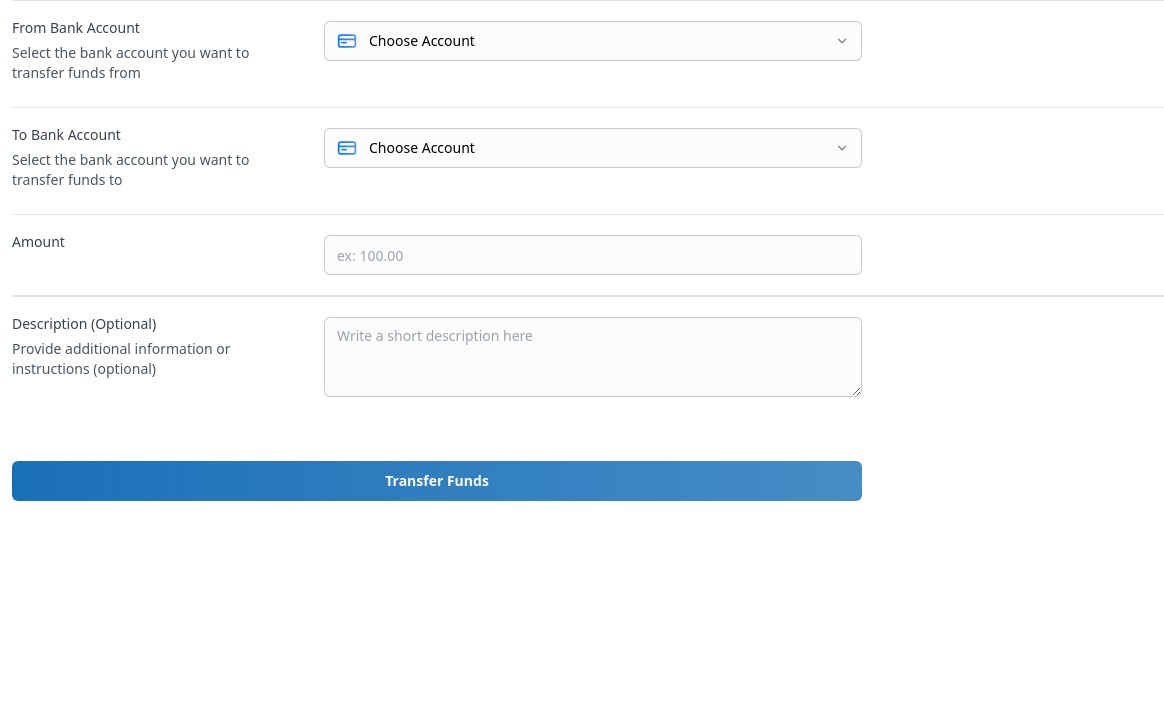
Test: TransferFundsForm Component › should display error when amount is invalid
# Fill in valid fromBank and toBank
Click the dropdown labelled "Choose Account" in the row of "From Bank Account" at x=422, y=40, box [324,21,862,61]
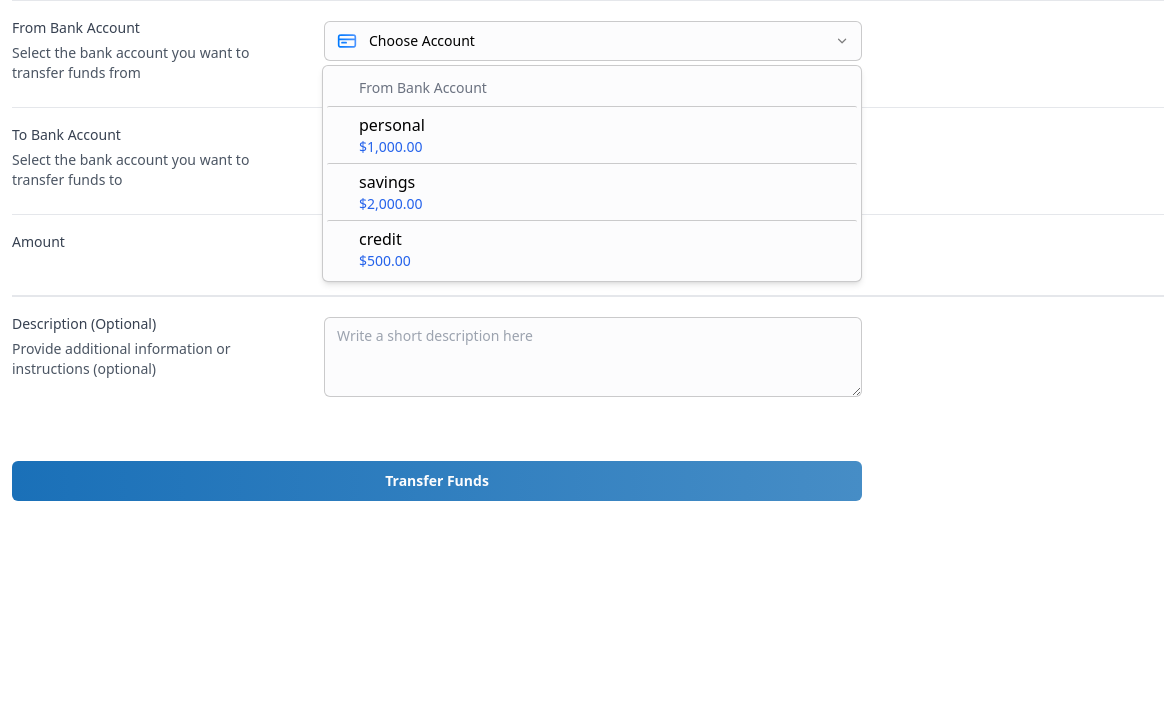
Click the text "personal" at x=392, y=125, box [359,113,425,137]
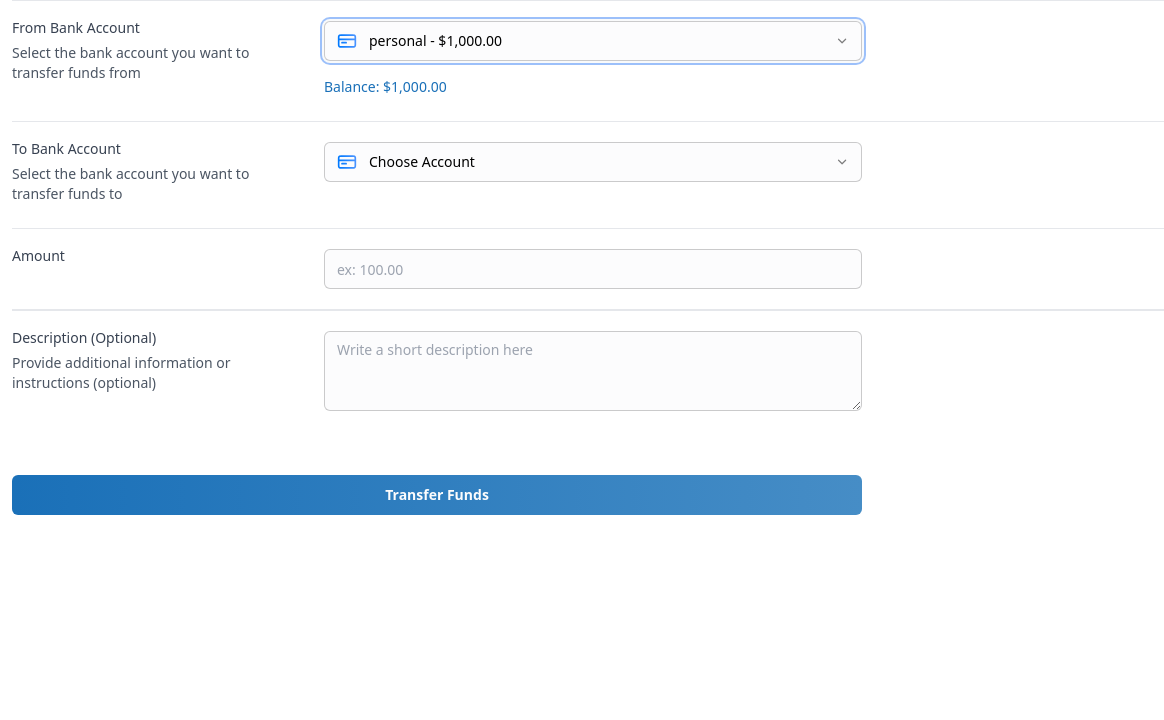
Click the dropdown labelled "Choose Account" at x=422, y=162, box [324,142,862,182]
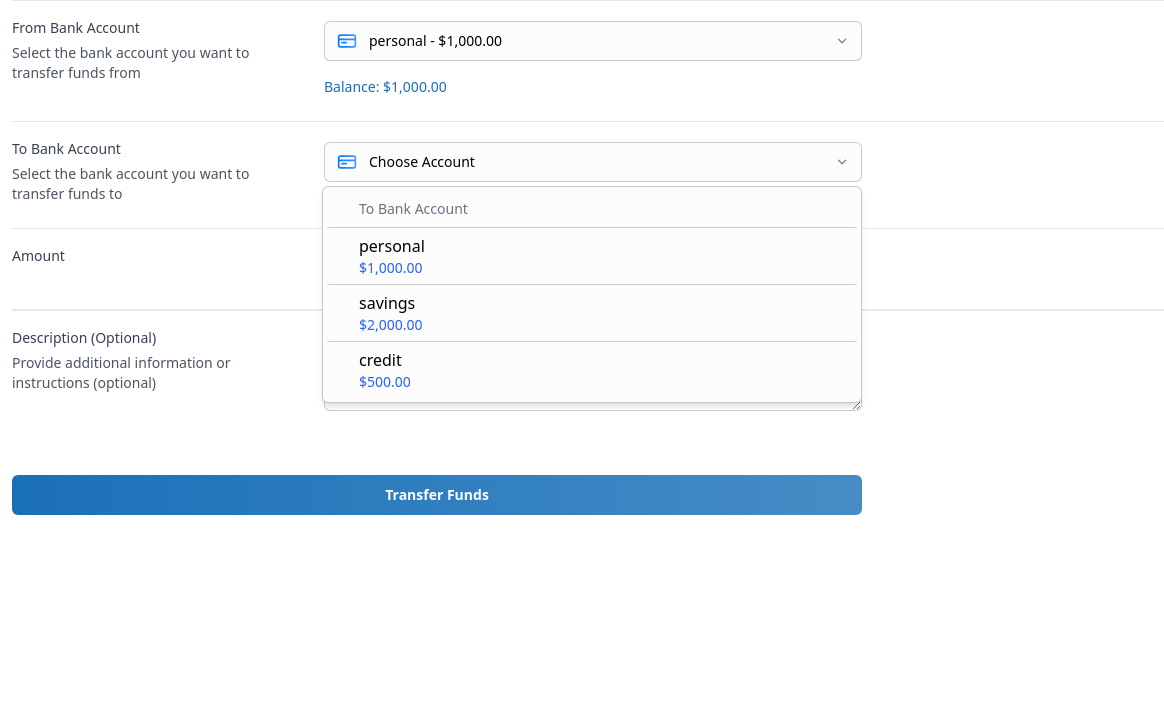
Click the text "savings" at x=391, y=303, box [359,291,423,315]
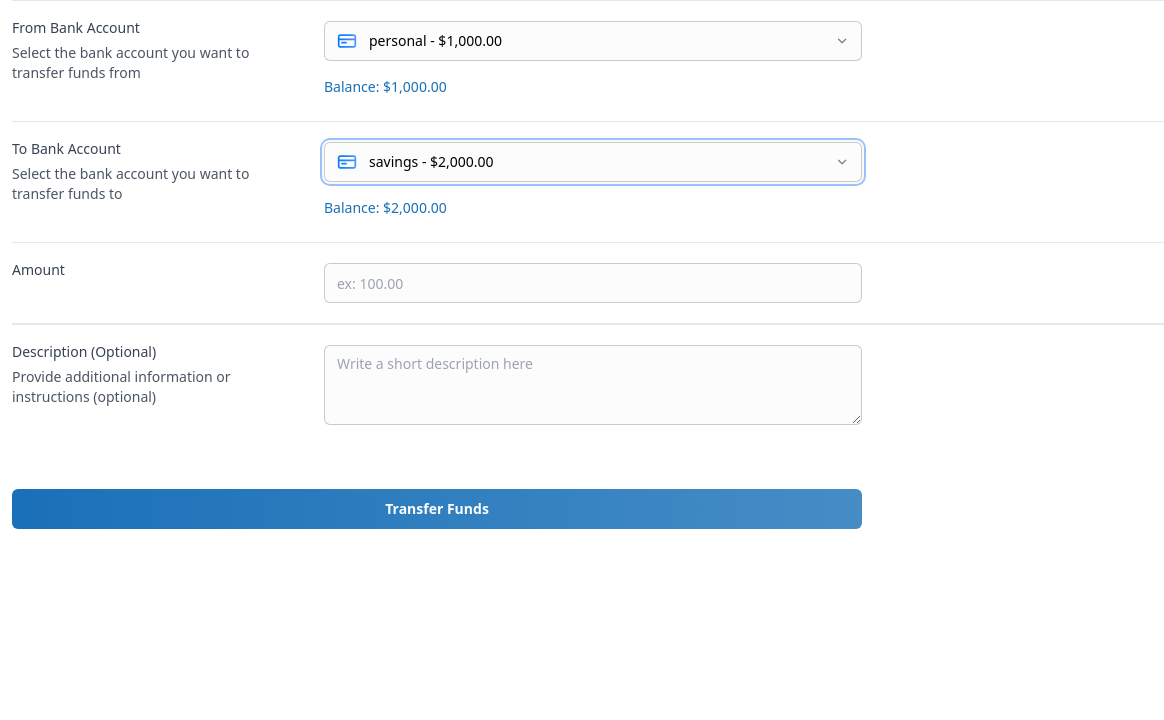
# Enter invalid amount
Type "abc" into the field with placeholder "ex: 100.00" at x=593, y=283, box [324,263,862,303]
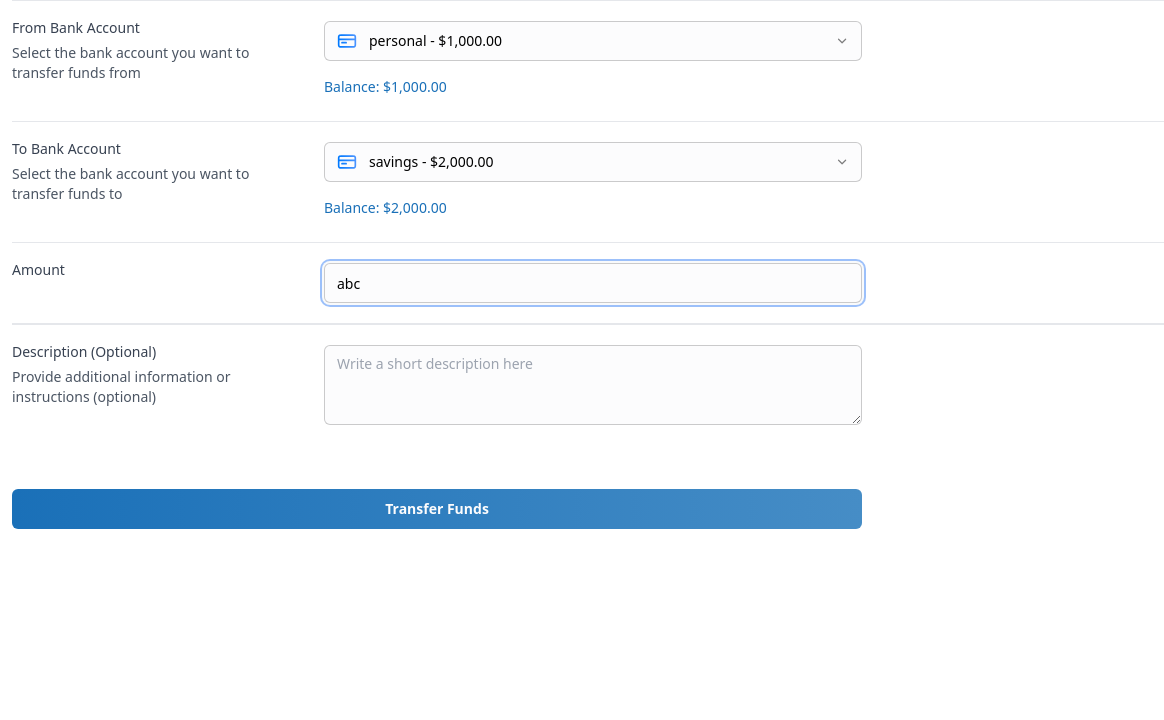
# Click on submit button
Click the button "Transfer Funds" at x=437, y=509, box [12,489,862,529]
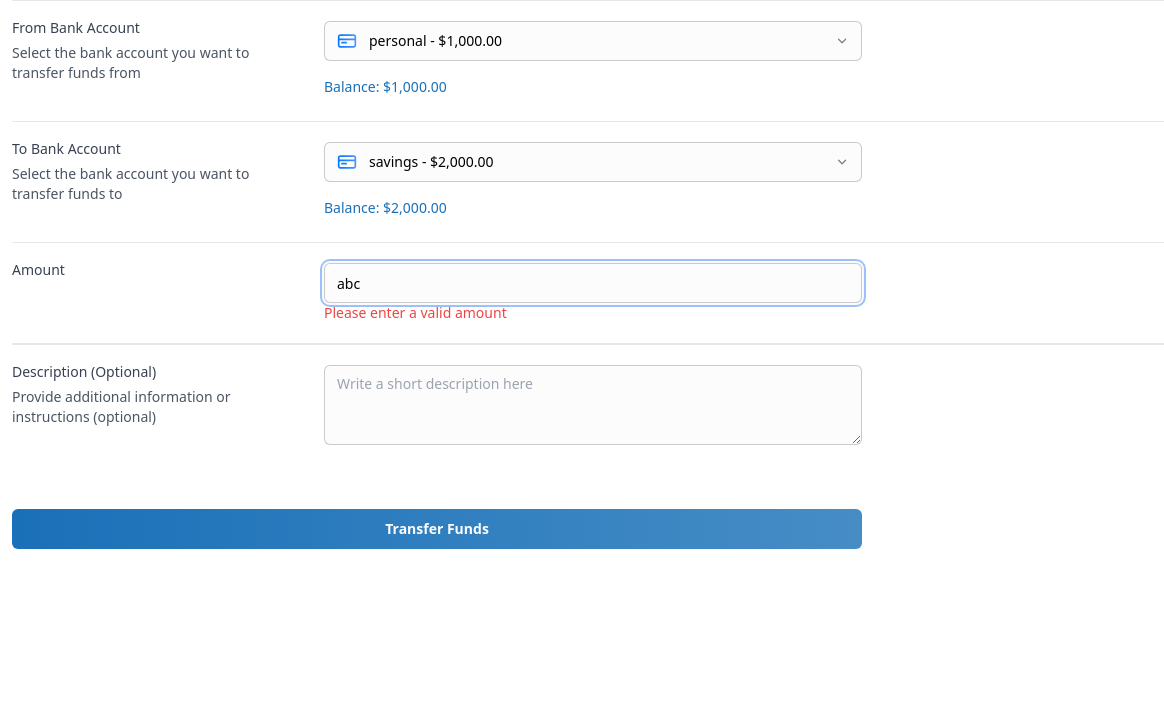
Now the text "Please enter a valid amount" is shown, box [324,303,507,322]
